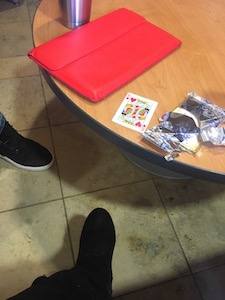KingOfHearts: (109, 89, 160, 134)
